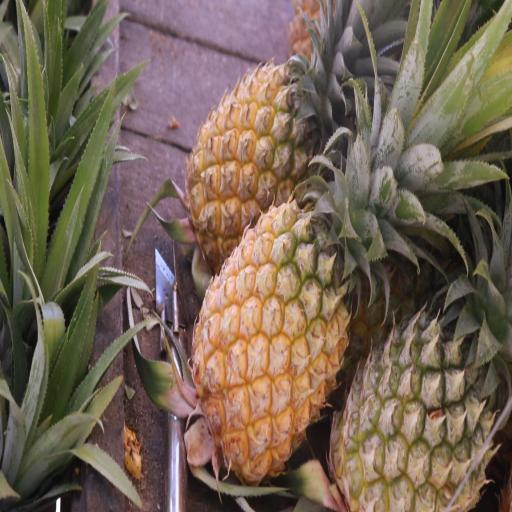Pineapple - v8 v1: (184, 151, 354, 496), (180, 10, 347, 276)
